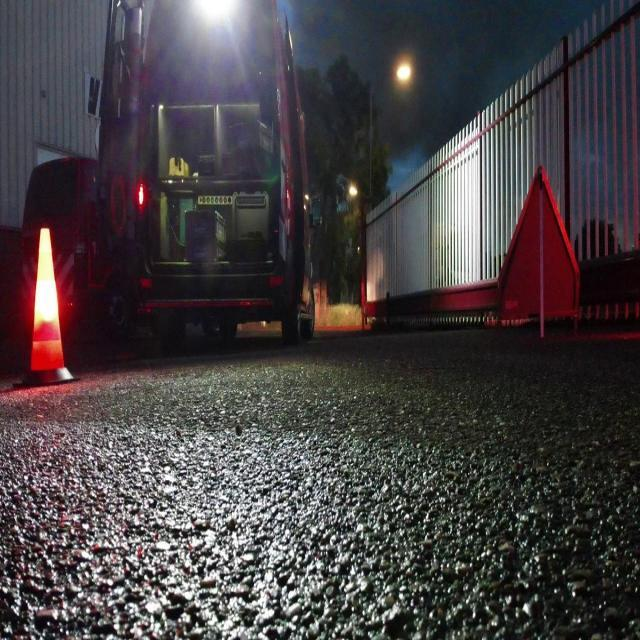Smoke: (287, 0, 640, 164)
